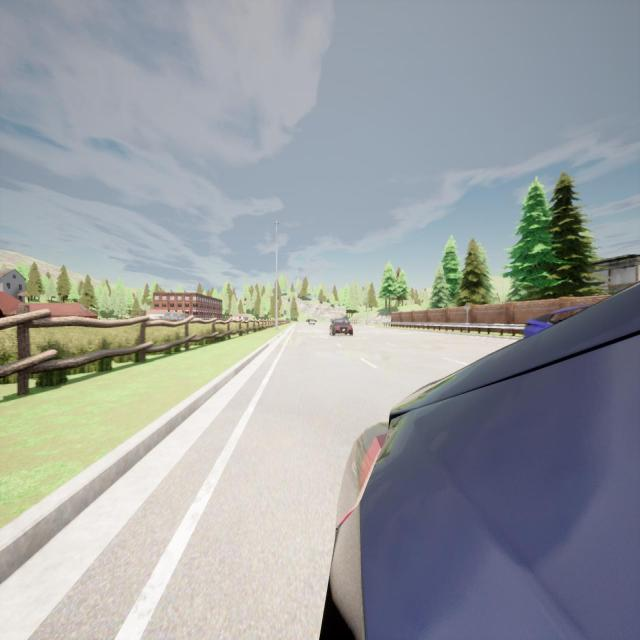Vehicle: (323, 286, 640, 640), (522, 306, 598, 338), (329, 318, 353, 337), (308, 319, 315, 325)
